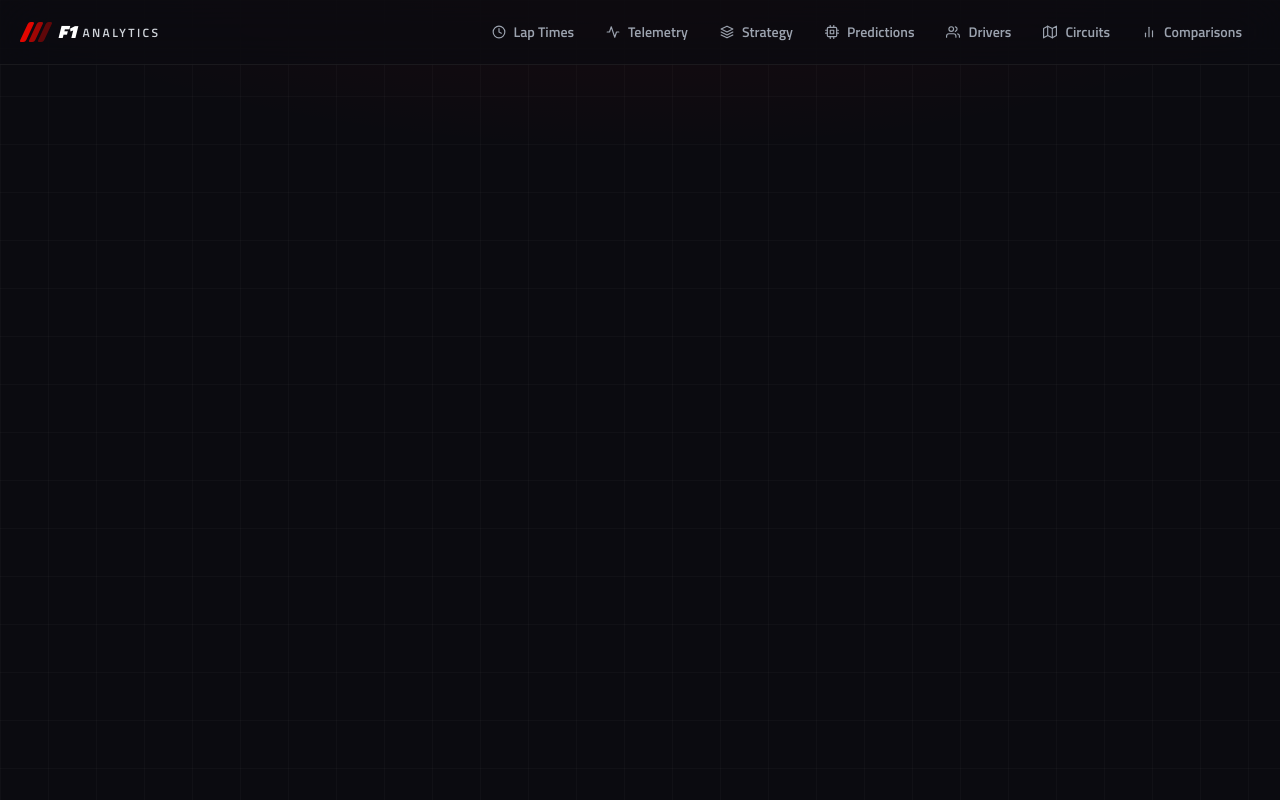
Test case: navigates to the lap times page
Click the link "Lap Times". click: click(533, 32)
box: x1=492 y1=21 x2=574 y2=42
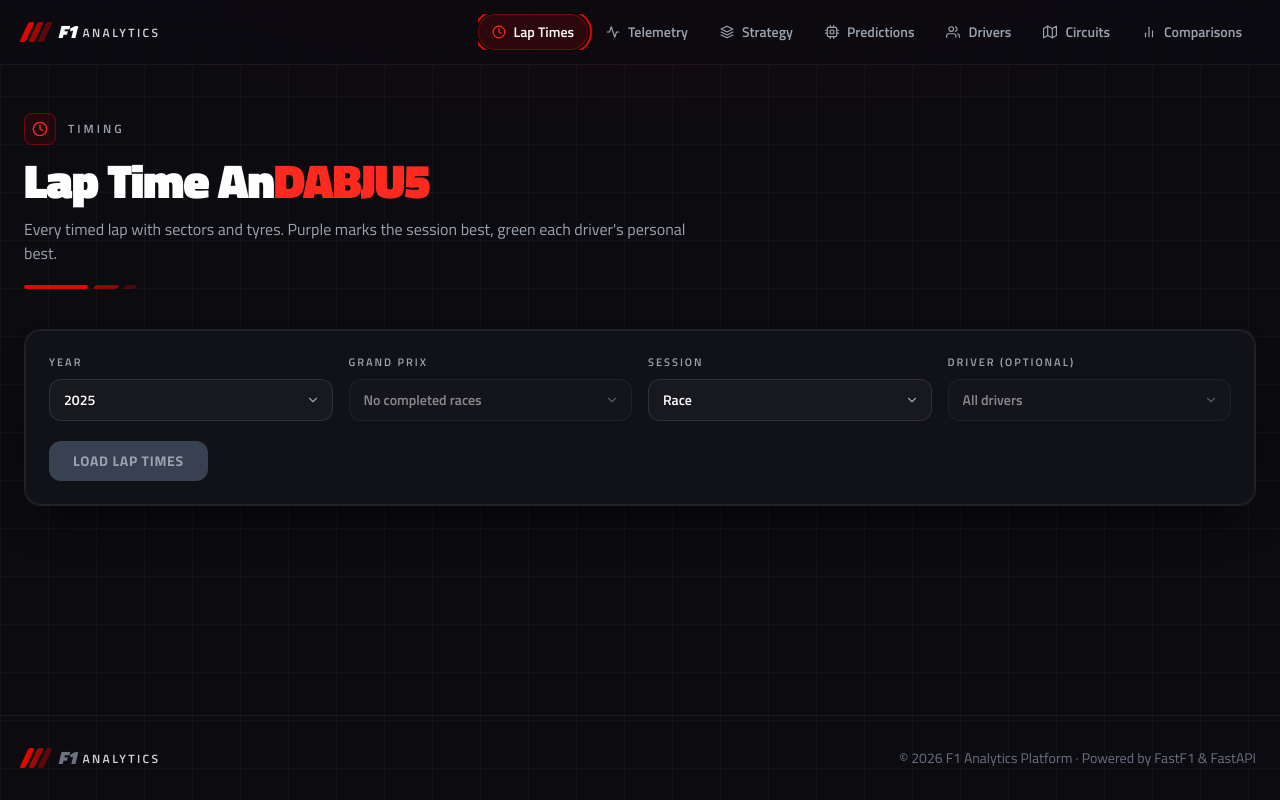
Expected: the heading named "lap time analysis" is shown, x1=23 y1=143 x2=429 y2=217
Expected: the button "Load Lap Times" is shown, x1=49 y1=440 x2=208 y2=480
